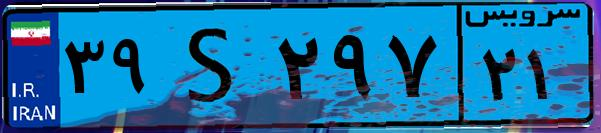1: (525, 38, 570, 115)
2: (270, 28, 330, 110), (475, 38, 525, 113)
3: (57, 26, 110, 100)
7: (385, 28, 445, 110)
9: (330, 28, 385, 110), (110, 28, 158, 98)
S: (158, 12, 270, 120)
